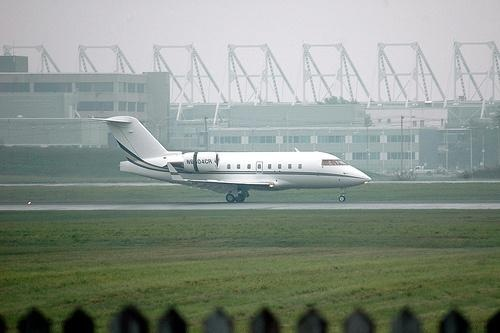aeroplane: (92, 117, 373, 203)
